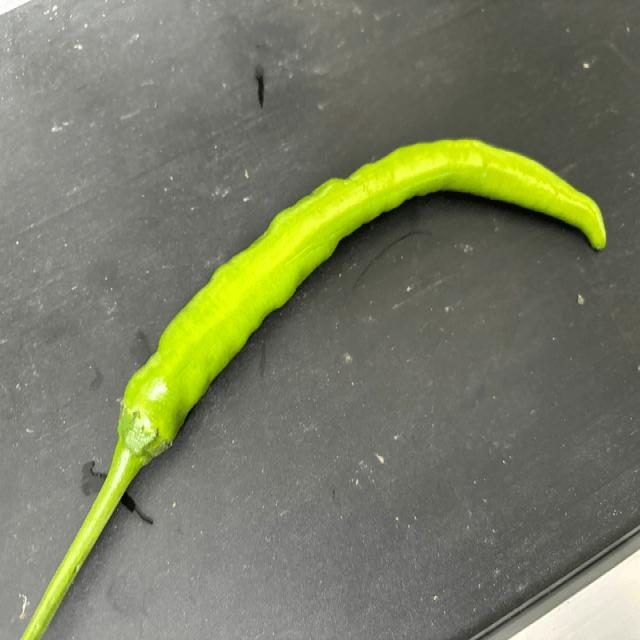chili: (113, 134, 610, 468)
